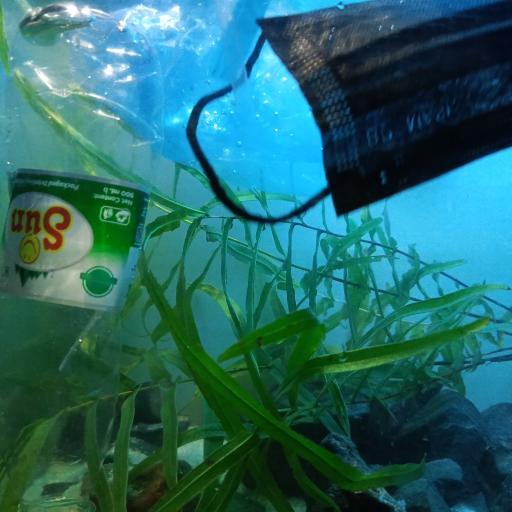mask: (186, 0, 512, 227)
plastic_bag: (71, 3, 512, 237)
plastic_bottle: (2, 6, 165, 512)
